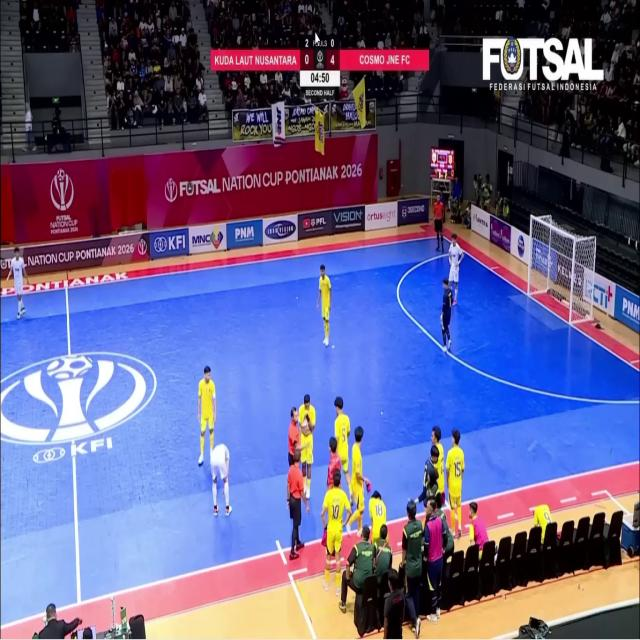keeper: (441, 233, 463, 347)
official: (441, 233, 463, 349), (327, 436, 341, 488)
players: (321, 470, 351, 594), (347, 426, 370, 533), (447, 430, 464, 538), (198, 366, 216, 464), (299, 395, 315, 499), (210, 444, 231, 515), (335, 396, 350, 490), (8, 247, 27, 319), (317, 265, 331, 346), (449, 234, 463, 305), (441, 279, 453, 350)
referee: (287, 451, 309, 559), (288, 407, 299, 466), (434, 200, 444, 244)
